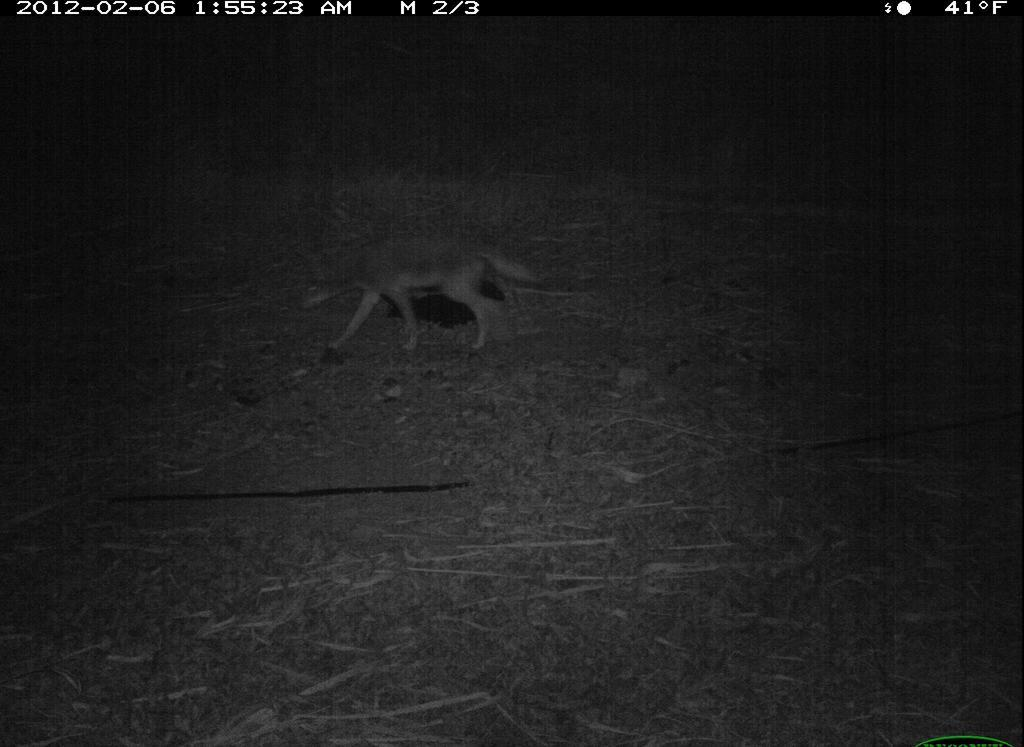coyote: (296, 232, 541, 357)
